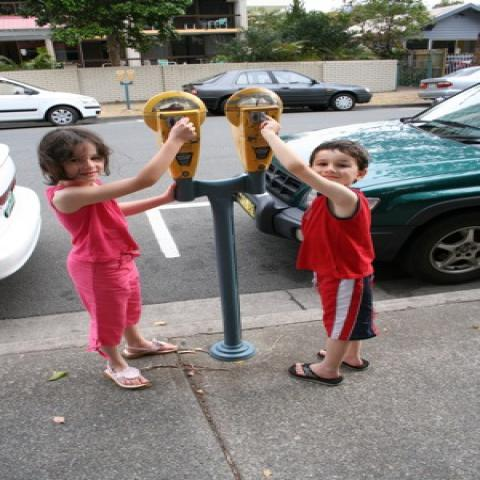car: (236, 81, 478, 287), (181, 66, 478, 116), (2, 141, 42, 283), (0, 76, 103, 126)
